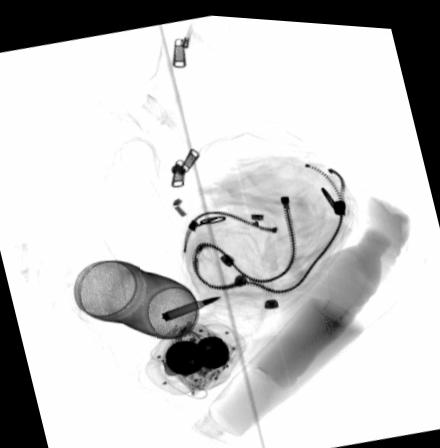Bullet: (159, 293, 223, 319)
